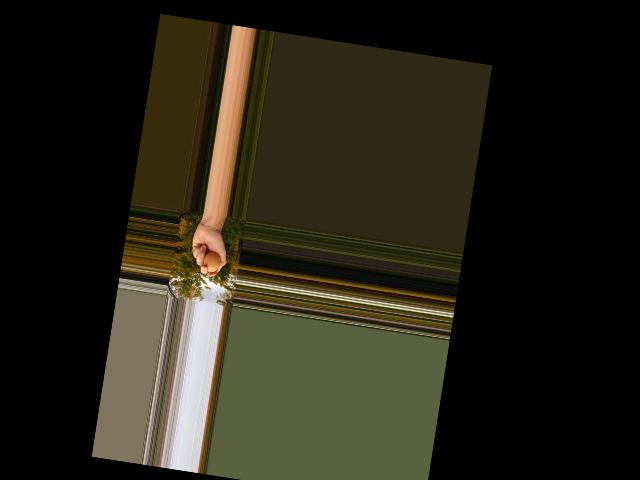egg: (201, 250, 221, 273)
